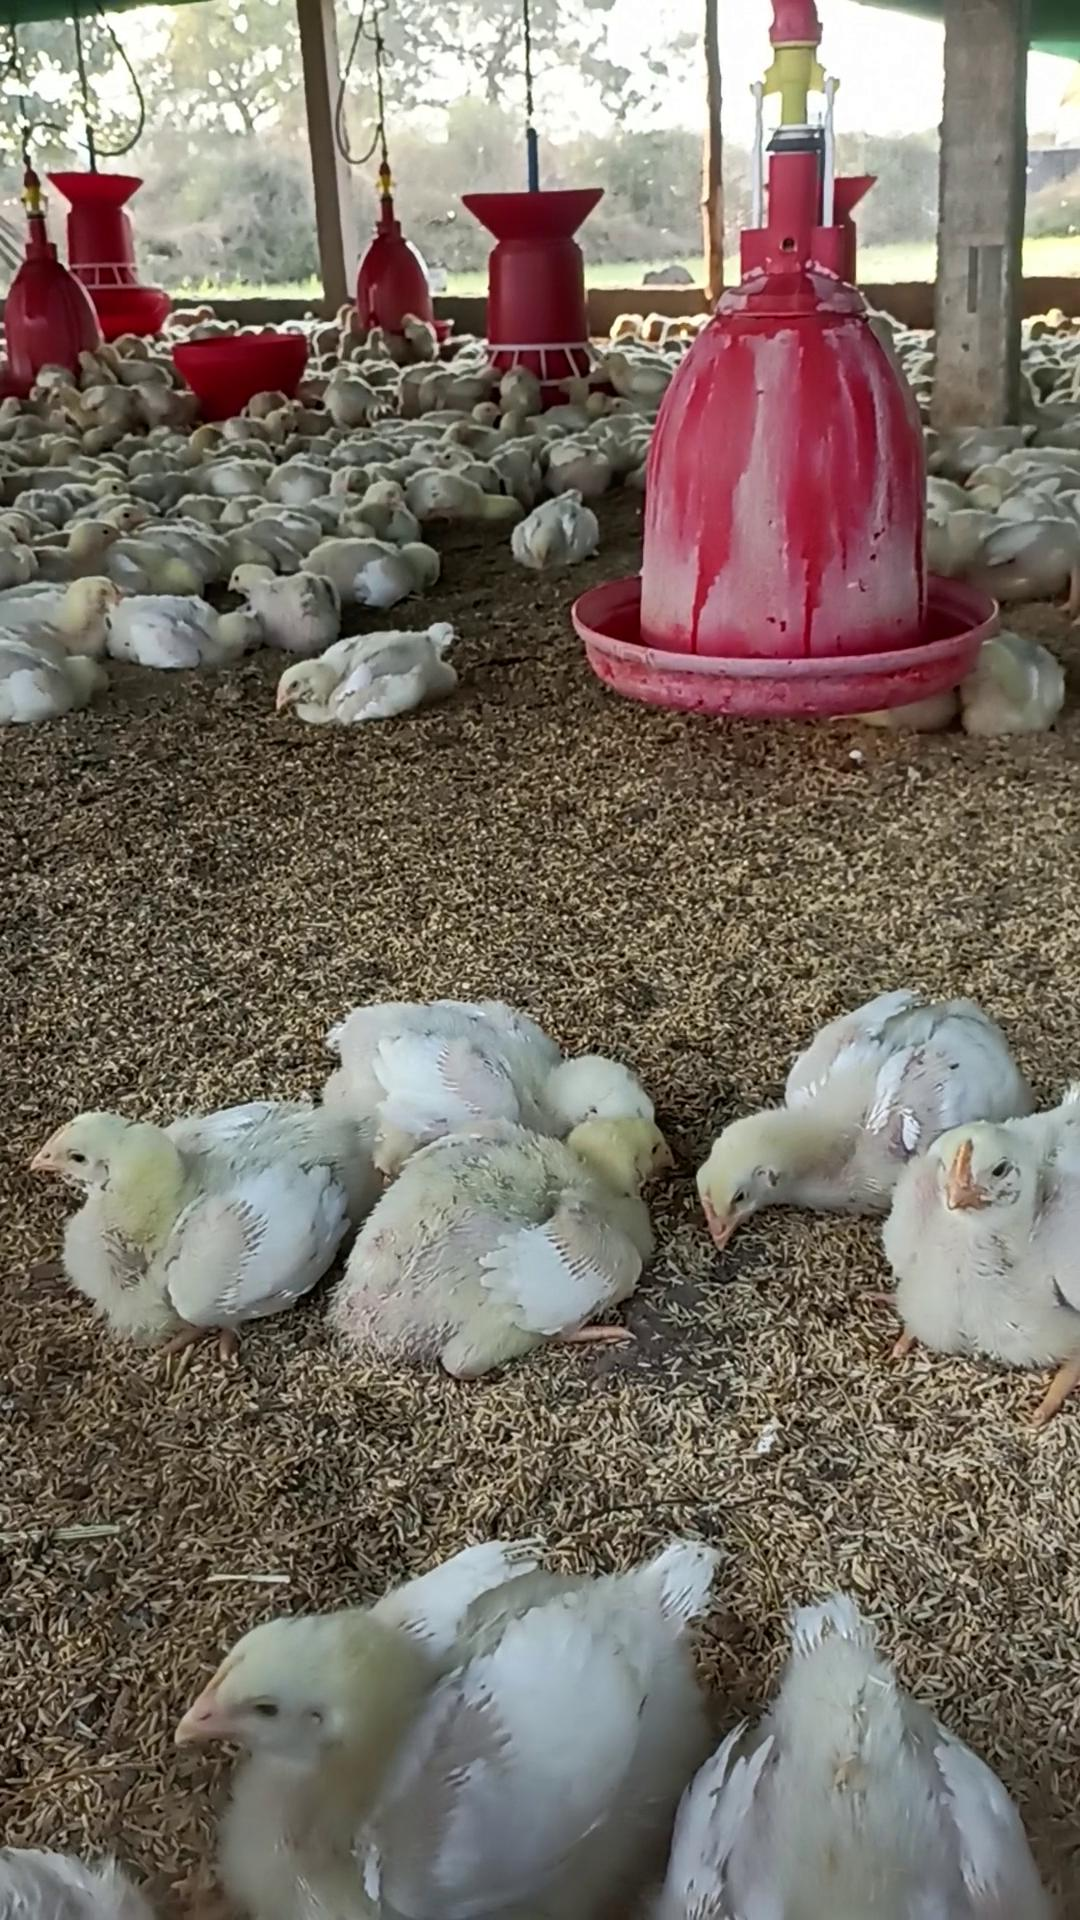Pollos: (175, 1524, 727, 1920), (348, 1101, 676, 1371), (699, 973, 978, 1245), (28, 1098, 328, 1315), (884, 1095, 1080, 1365), (272, 615, 464, 744), (3, 575, 123, 663), (229, 562, 328, 636), (508, 493, 595, 574)
